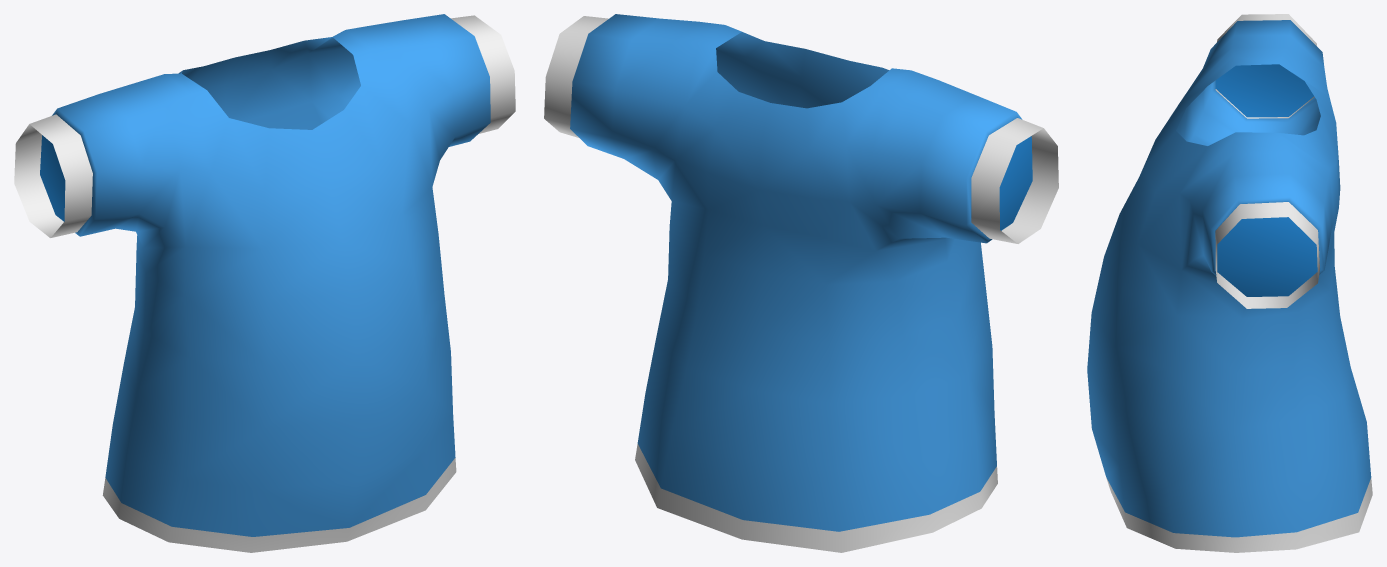
File: Outerwear_Blue_013.glb
3 views of the same model, side by side, from view 1: azimuth 30°, elevation 25°; view 2: azimuth 150°, elevation 25°; view 3: azimuth 270°, elevation 25° (orthographic). The views are drawn at different scales.
Parts seen in each view (by area): view 1: Outerwear_Blue_013; view 2: Outerwear_Blue_013; view 3: Outerwear_Blue_013.
Boxes of the visible parts, box(x1,y1,x2,y2) form: Outerwear_Blue_013: box(14, 14, 515, 552); Outerwear_Blue_013: box(544, 14, 1058, 552); Outerwear_Blue_013: box(1087, 14, 1372, 552).
Bounding box in the file's own units: 0.6893 × 0.6211 × 0.4041.
1 material, 1 textured.
